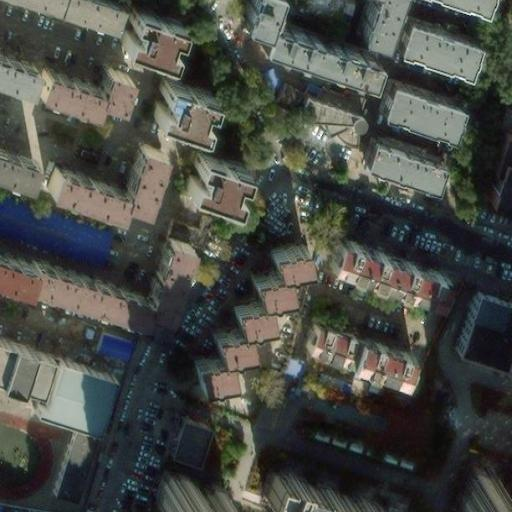building: (322, 236, 442, 306), (42, 143, 159, 214), (294, 311, 405, 381), (0, 189, 105, 263), (19, 252, 141, 313), (21, 346, 103, 420), (263, 470, 395, 512), (446, 290, 512, 371), (27, 61, 121, 114), (392, 9, 474, 69), (373, 74, 456, 133), (138, 229, 187, 309), (359, 132, 435, 180), (293, 96, 359, 145), (145, 76, 204, 130), (46, 429, 91, 498), (153, 469, 225, 512), (177, 149, 236, 201), (114, 6, 173, 58), (452, 467, 512, 512), (483, 99, 512, 168), (480, 155, 512, 211), (166, 418, 201, 464), (352, 0, 391, 41), (88, 321, 128, 359), (186, 349, 226, 383), (247, 265, 285, 296), (0, 147, 32, 183), (208, 324, 244, 353), (229, 295, 263, 325), (0, 53, 30, 87), (264, 240, 299, 267), (440, 0, 490, 16)
